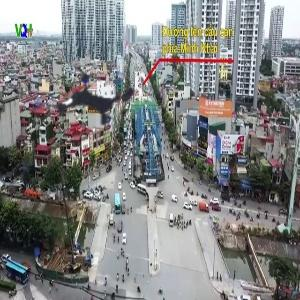drone: (23, 25, 164, 166)
